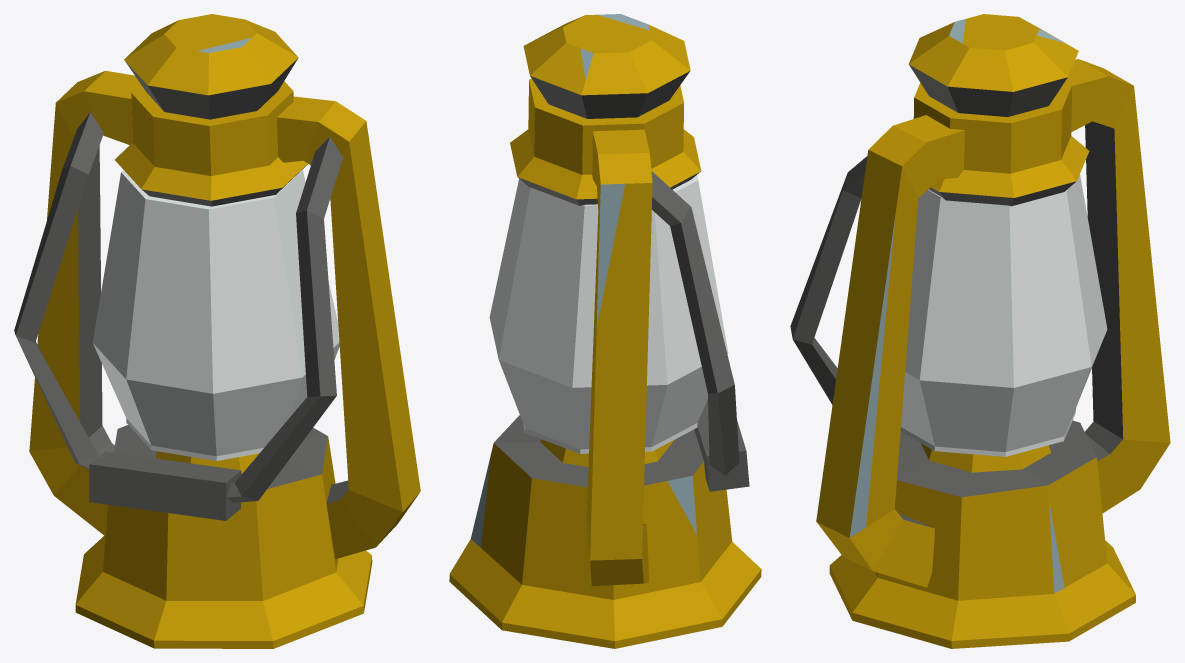
The model's file is Handy_lantern.glb.
3 views of the same model, side by side, from view 1: azimuth 30°, elevation 25°; view 2: azimuth 150°, elevation 25°; view 3: azimuth 270°, elevation 25° (orthographic).
Visible parts, largest first — view 1: Lantern; view 2: Lantern; view 3: Lantern.
Part boxes in pixels (<box>): Lantern: <box>14,14,420,648</box>; Lantern: <box>449,14,761,648</box>; Lantern: <box>790,14,1170,648</box>.
Size of the model in its own units: 0.2724 by 0.4809 by 0.2974.
